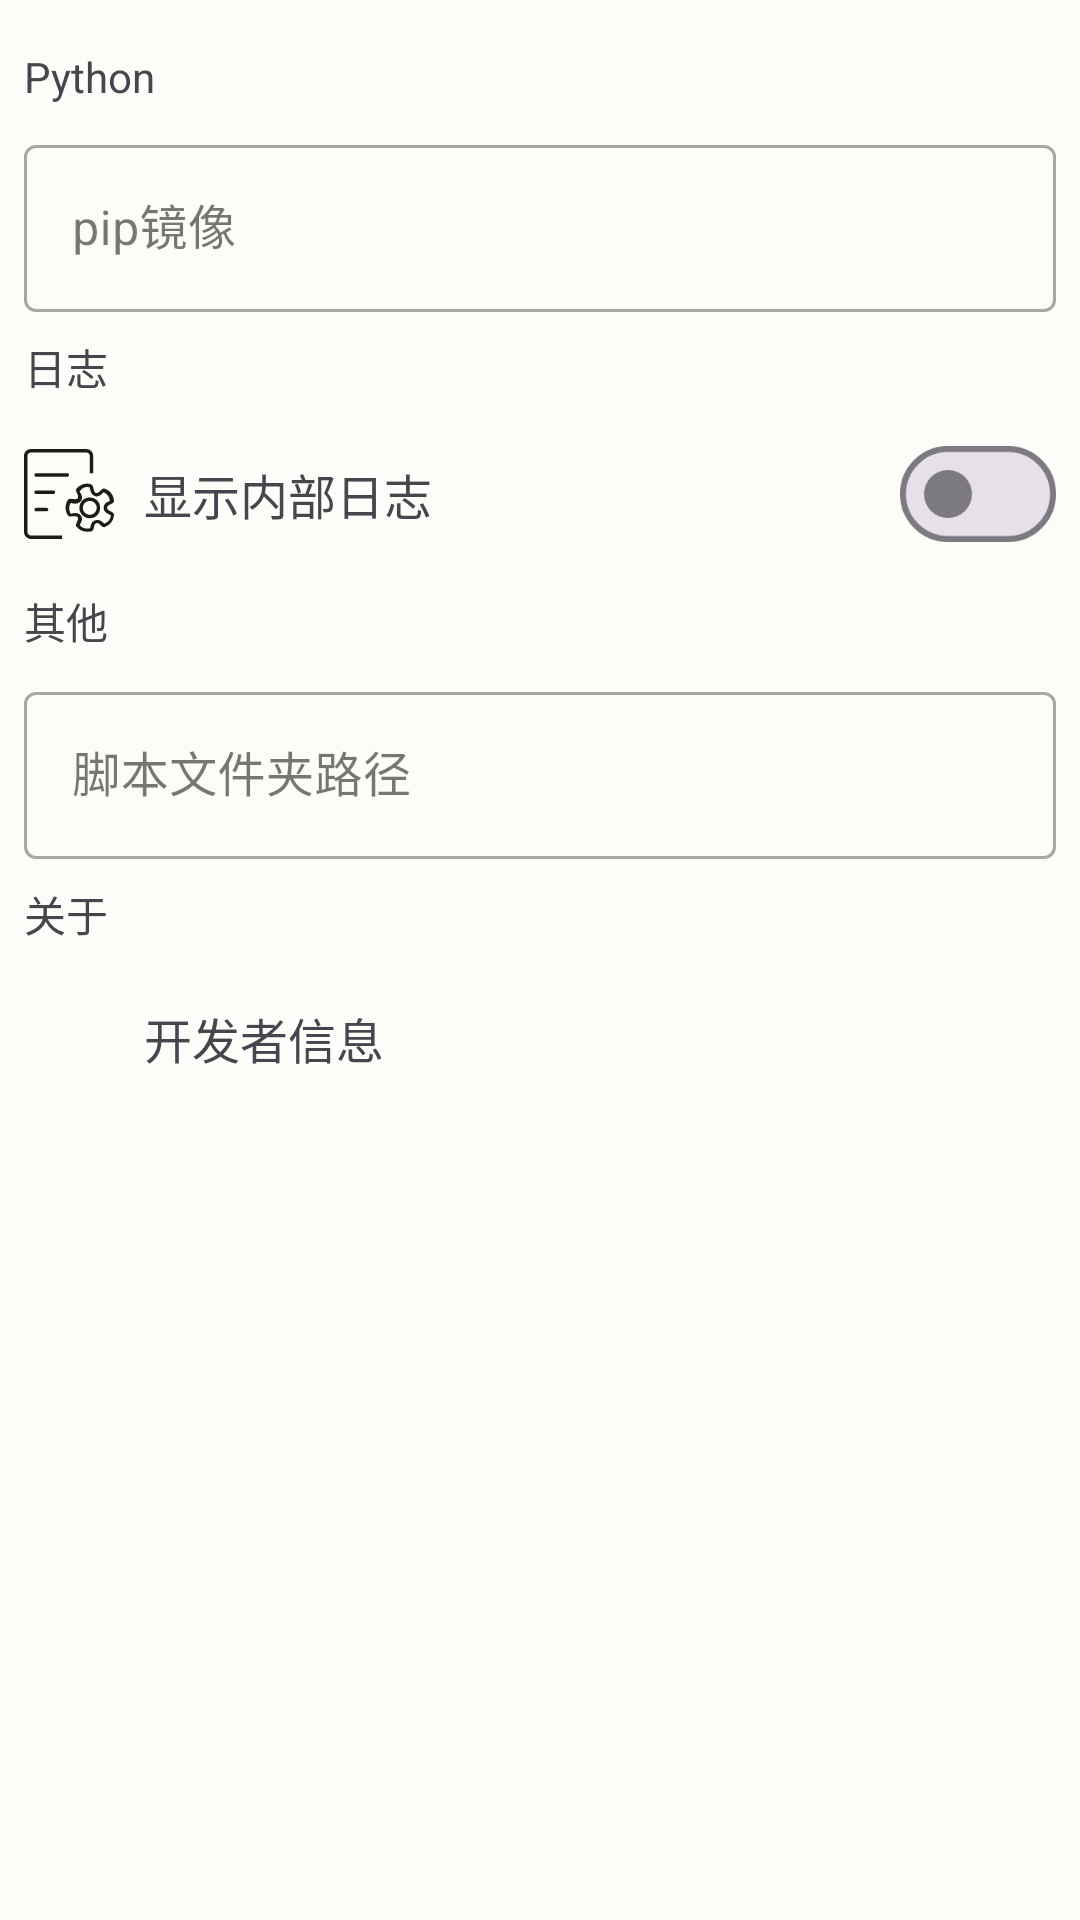

Point at icon controls on the screen. Image size 1080px×1920px, points as (x=x, y=y).
log show all: (x=69, y=494)
